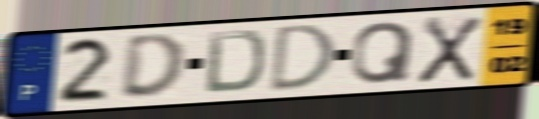2: (57, 35, 117, 106)
D: (266, 21, 339, 95), (117, 31, 189, 102), (201, 28, 268, 96)
Q: (349, 20, 417, 87)
X: (414, 15, 485, 85)
